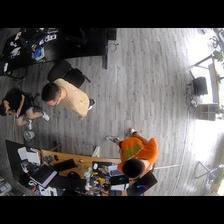normal: (100, 122, 161, 177), (43, 81, 98, 117)
